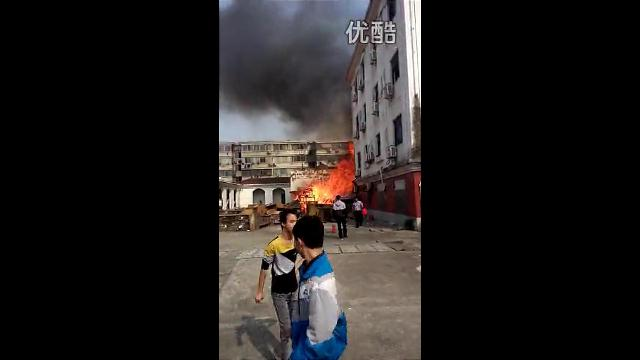fire: (327, 168, 351, 195), (298, 182, 329, 202), (336, 158, 354, 170), (346, 140, 354, 154)
